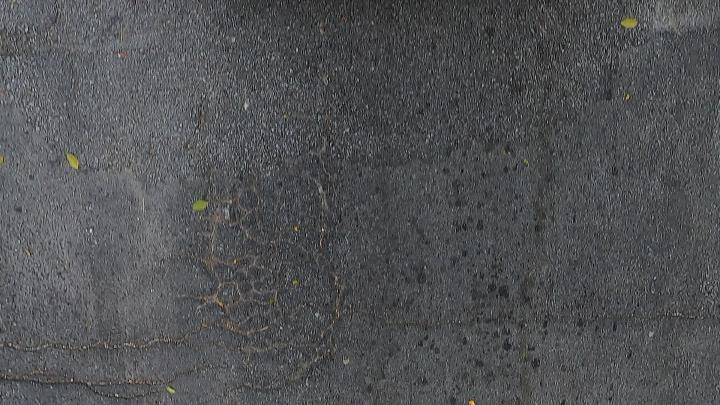Crack: (0, 178, 720, 405), (180, 273, 719, 389), (0, 180, 347, 354), (0, 366, 176, 399), (256, 194, 291, 214)
